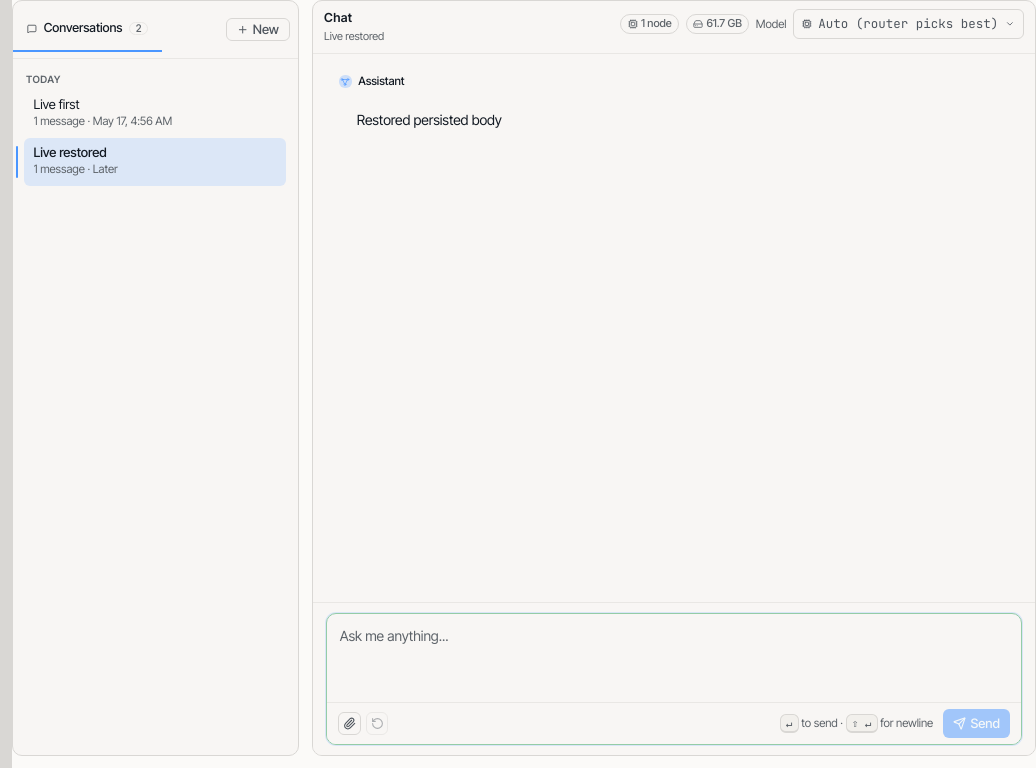
Test: ChatPage › does not show stale live lane messages while switching between persisted live conversations
Expected: the text "Restored persisted body" is shown, [357, 111, 502, 128]
Click the button "Live first 1 message · May 17, 4:56 AM".
click(155, 114)  # box [24, 90, 286, 138]
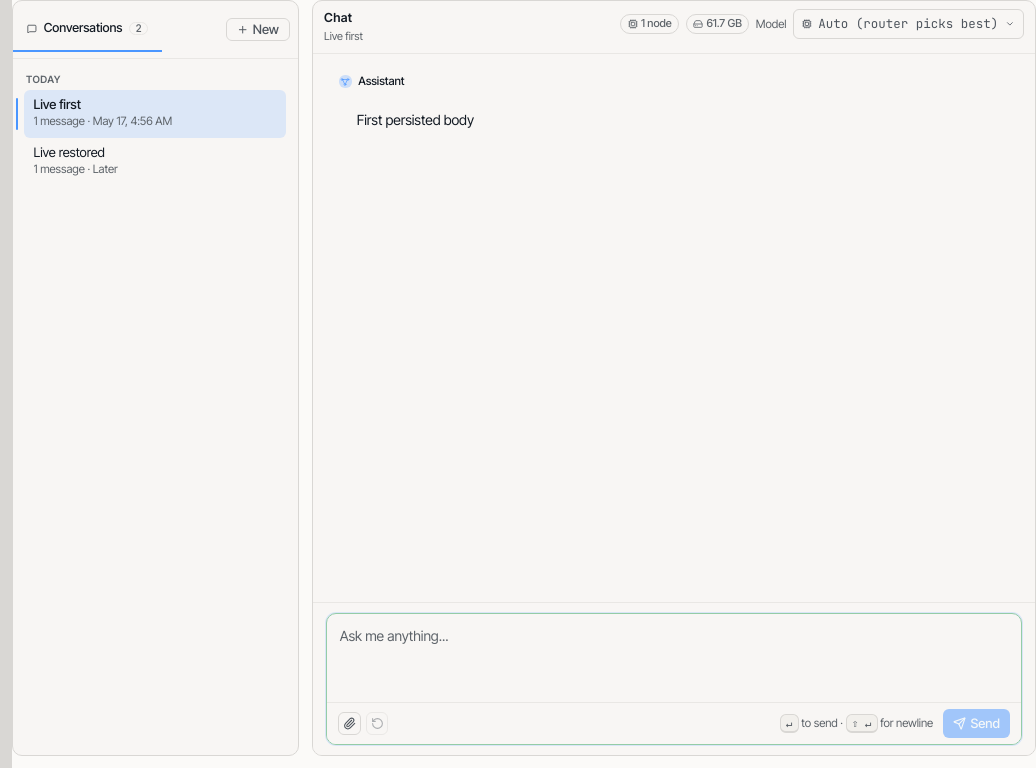
Result: the text "Restored persisted body" is gone
Result: the text "First persisted body" is shown at [357, 111, 474, 128]
